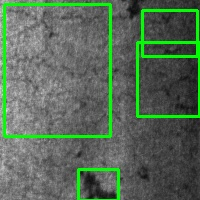crazing: (4, 4, 110, 136), (137, 42, 199, 116), (142, 10, 197, 56)
patches: (78, 169, 118, 200)
